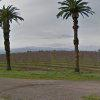Palm tree: (55, 0, 93, 81)
